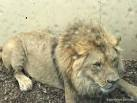lion: (4, 25, 136, 102)
